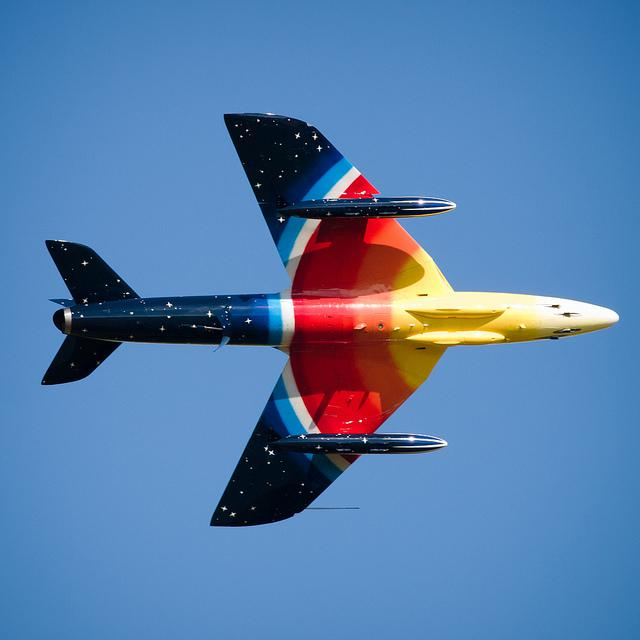Airplane: (39, 113, 621, 529)
